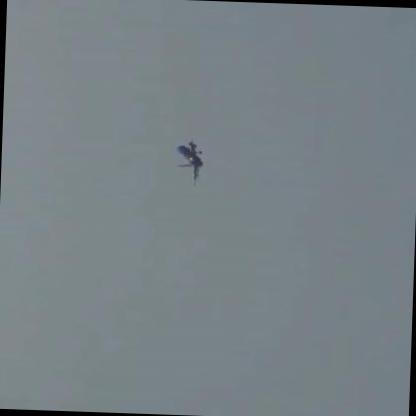plane: (168, 136, 210, 187)
